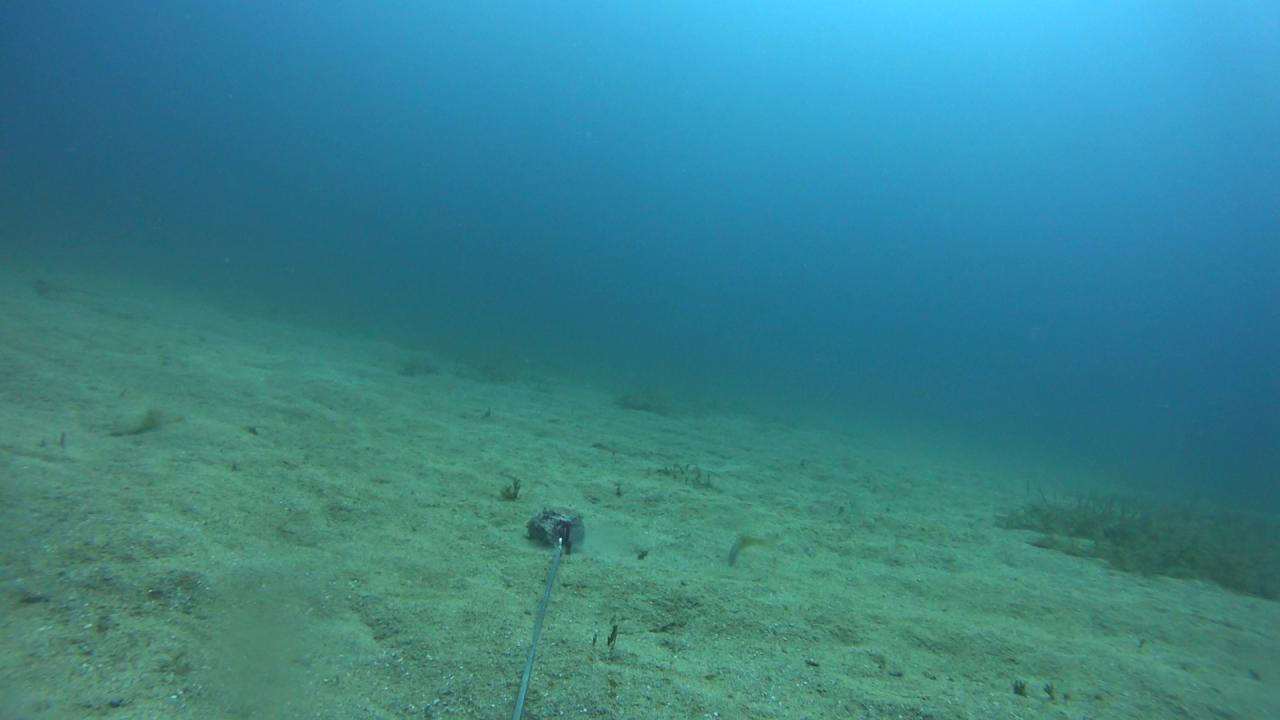dasyatis: (28, 274, 97, 296)
